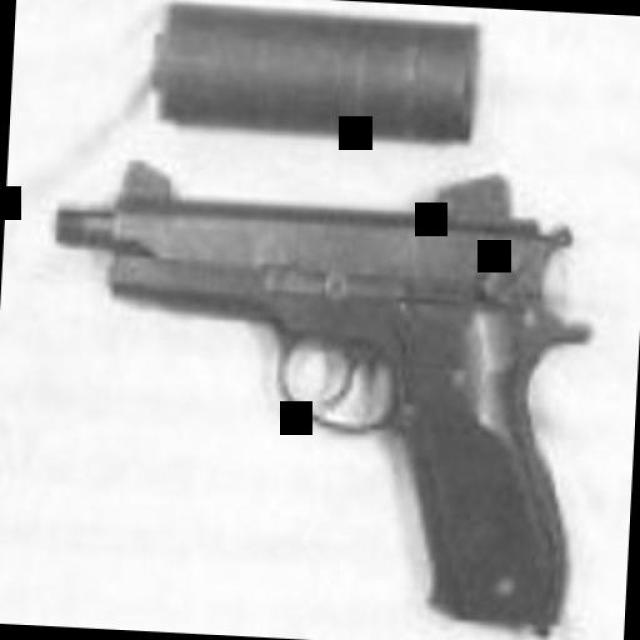gun: (26, 137, 607, 640)
